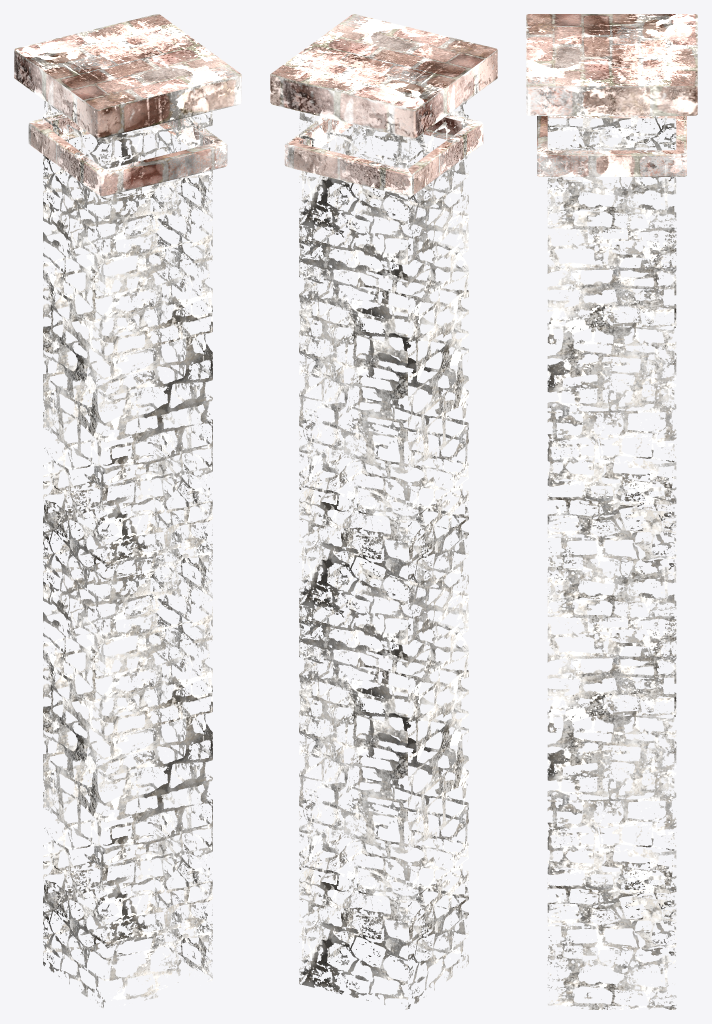
The model's file is SM_fence_column_01.fbx.
3 views of the same model, side by side, from view 1: azimuth 30°, elevation 25°; view 2: azimuth 150°, elevation 25°; view 3: azimuth 270°, elevation 25° (orthographic). The views are drawn at different scales.
Visible parts, largest first — view 1: SM_fence_column_01_LOD0; view 2: SM_fence_column_01_LOD0; view 3: SM_fence_column_01_LOD0.
Boxes of the visible parts, <box> form: SM_fence_column_01_LOD0: <box>14,14,241,1008</box>; SM_fence_column_01_LOD0: <box>270,14,497,1009</box>; SM_fence_column_01_LOD0: <box>526,14,697,1009</box>.
Bounding box in the file's own units: 80 × 80 × 480.
Materials: 2 (2 with a texture image).
